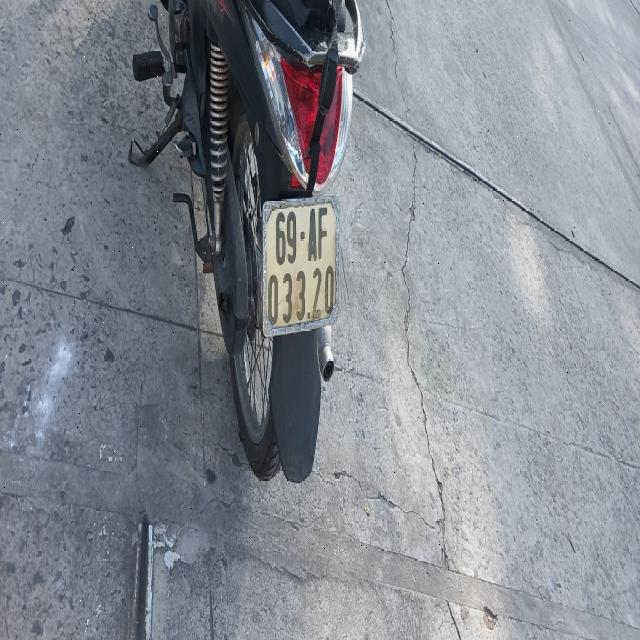0: (267, 274, 278, 328), (324, 265, 334, 316)
2: (312, 268, 322, 319)
3: (296, 270, 306, 320), (283, 274, 293, 322)
6: (276, 212, 286, 266)
9: (287, 211, 297, 265)
A: (308, 208, 316, 262)
F: (319, 207, 327, 260)
